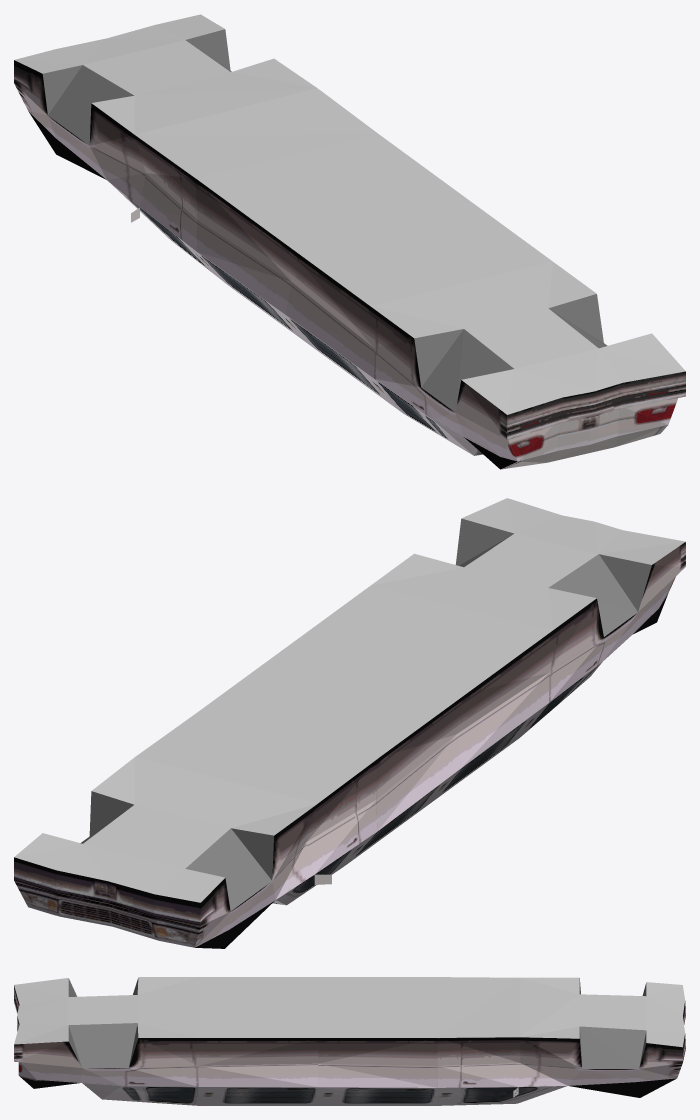
Rendered from VEGAS_model8_damaged.obj.
The picture shows the model from 3 angles, top to bottom: view 1: azimuth 30°, elevation 25°; view 2: azimuth 150°, elevation 25°; view 3: azimuth 270°, elevation 25°; orthographic projection. The views are drawn at different scales.
Parts seen in each view (by area): view 1: VEGAS_model8_damaged; view 2: VEGAS_model8_damaged; view 3: VEGAS_model8_damaged.
Part boxes in pixels (left/top/right/bottom): VEGAS_model8_damaged: left=14, top=14, right=685, bottom=469; VEGAS_model8_damaged: left=14, top=498, right=685, bottom=948; VEGAS_model8_damaged: left=14, top=977, right=685, bottom=1105.
Size of the model in its own units: 200 by 114 by 848.
